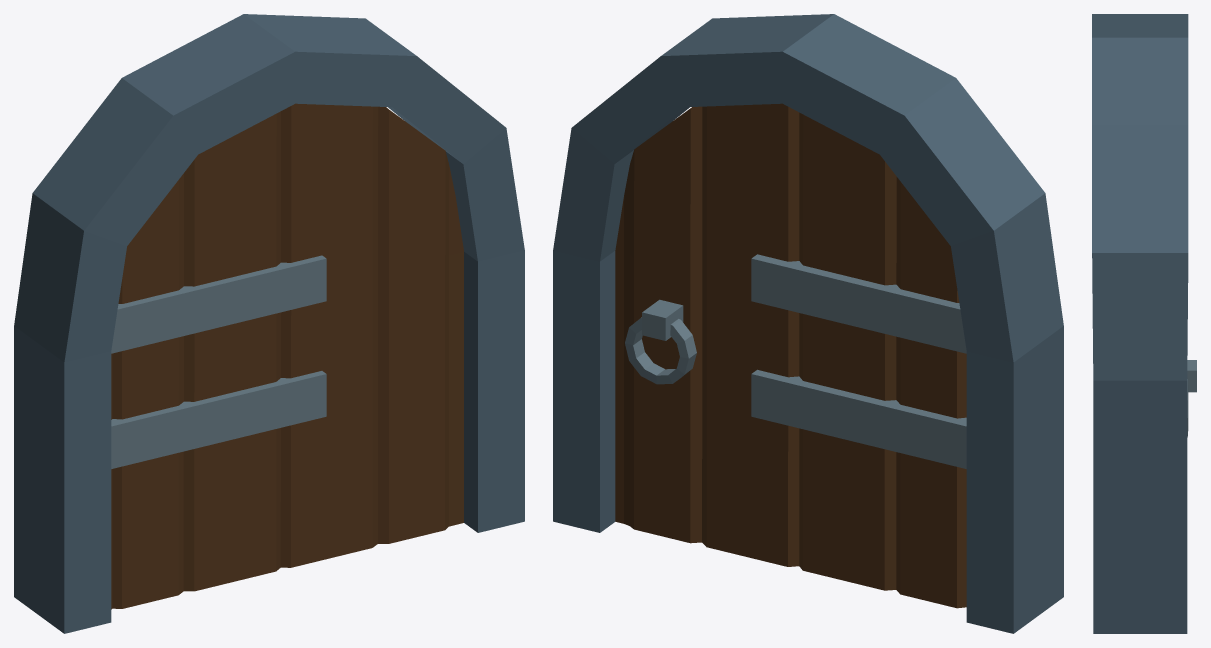
The model's file is Door.fbx.
3 views of the same model, side by side, from view 1: azimuth 30°, elevation 25°; view 2: azimuth 150°, elevation 25°; view 3: azimuth 270°, elevation 25° (orthographic). The views are drawn at different scales.
Parts seen in each view (by area): view 1: Cube.013, Cylinder; view 2: Cube.013, Cylinder; view 3: Cylinder, Cube.013.
Boxes of the visible parts, left/top/right/bottom form: Cube.013: left=111, top=103, right=463, bottom=609; Cylinder: left=14, top=14, right=524, bottom=633; Cube.013: left=615, top=103, right=966, bottom=608; Cylinder: left=553, top=14, right=1063, bottom=633; Cylinder: left=1092, top=14, right=1188, bottom=633; Cube.013: left=1187, top=360, right=1196, bottom=437.
Size of the model in its own units: 733 by 801 by 155.
